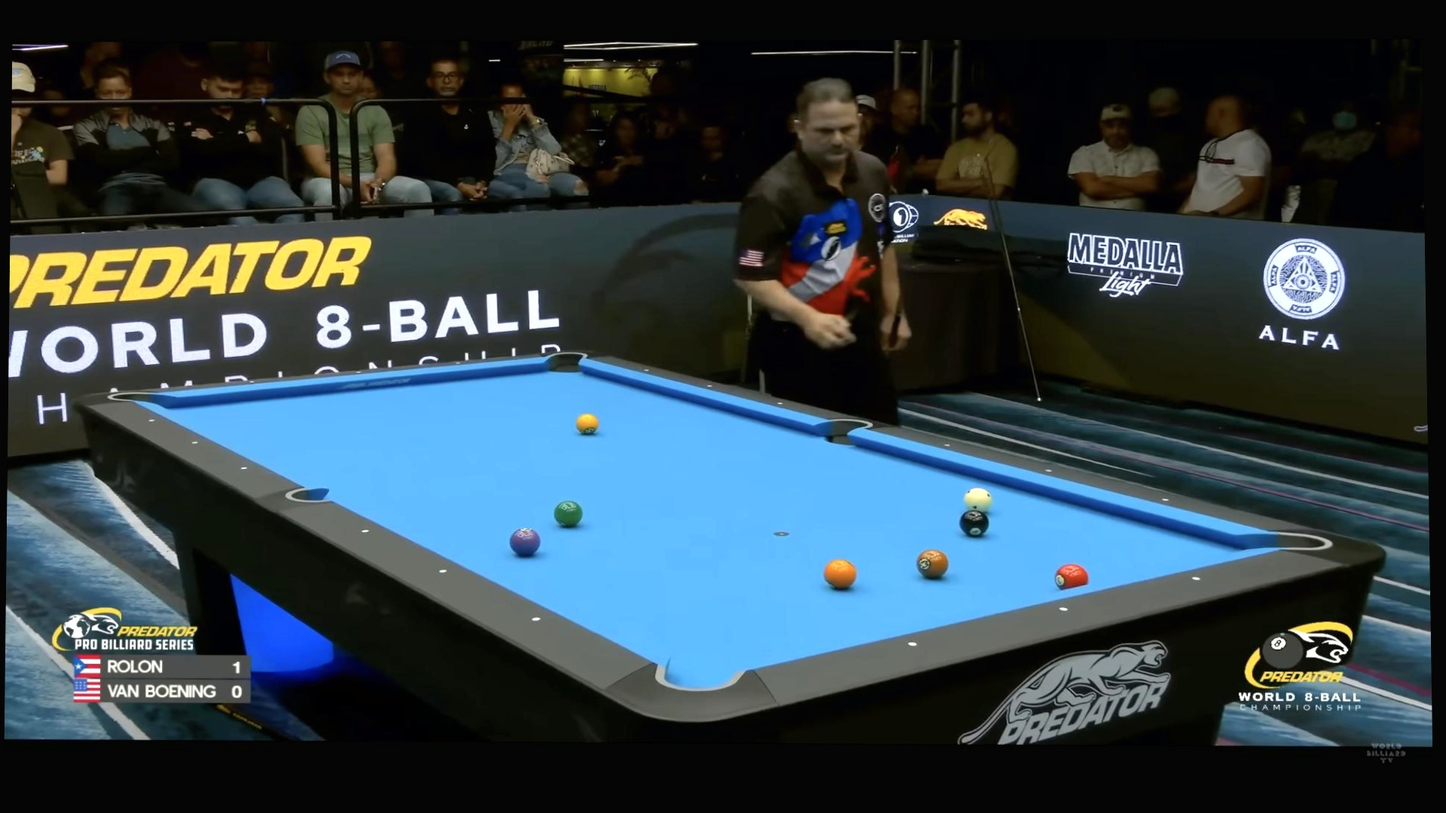Black: (959, 510, 990, 536)
Cue: (963, 487, 993, 512)
Solid: (530, 614, 542, 625), (359, 526, 371, 537), (437, 566, 449, 576), (1058, 604, 1069, 614), (1191, 573, 1202, 583), (1159, 494, 1170, 504), (907, 639, 918, 648), (943, 442, 951, 449), (248, 378, 256, 385), (354, 369, 362, 376), (454, 359, 462, 366), (1045, 468, 1052, 474), (241, 466, 248, 472), (148, 417, 155, 423), (707, 383, 713, 389), (644, 367, 650, 373), (192, 440, 198, 446), (777, 402, 783, 407)
Striped: (823, 558, 857, 590), (916, 549, 949, 579), (1054, 564, 1089, 591), (509, 527, 541, 556), (554, 500, 583, 528), (575, 413, 598, 435)
